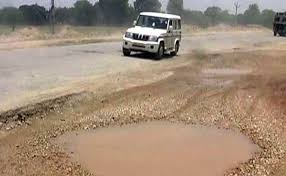potholes: (58, 114, 268, 176)
